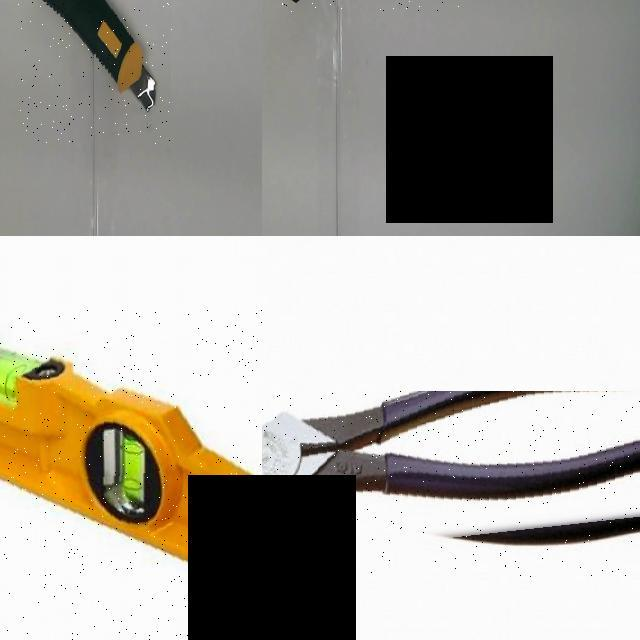estilete: (43, 0, 155, 110)
